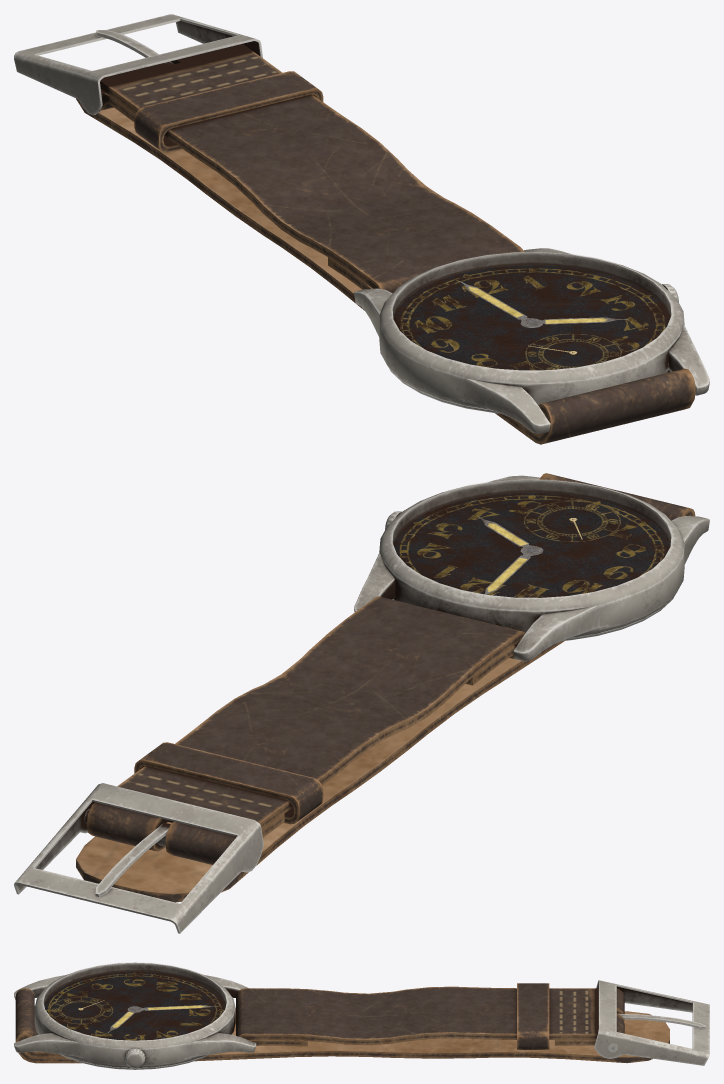
The picture shows the model from 3 angles, top to bottom: view 1: azimuth 30°, elevation 25°; view 2: azimuth 150°, elevation 25°; view 3: azimuth 270°, elevation 25°; orthographic projection. The views are drawn at different scales.
Parts seen in each view (by area): view 1: strap1_r_low, body_r_low, strap2_r_low, holder1_r_low; view 2: strap1_r_low, body_r_low, holder1_r_low, strap2_r_low; view 3: strap1_r_low, body_r_low, strap2_r_low, holder1_r_low, crown_r_low, minute_hand_r_low, hour_hand_r_low.
Part boxes in pixels (<box>): strap1_r_low: <box>100,43,523,293</box>; body_r_low: <box>354,248,709,433</box>; strap2_r_low: <box>76,98,695,444</box>; holder1_r_low: <box>14,14,262,115</box>; strap1_r_low: <box>87,596,525,864</box>; body_r_low: <box>354,475,709,661</box>; holder1_r_low: <box>14,783,263,933</box>; strap2_r_low: <box>76,473,695,902</box>; strap1_r_low: <box>236,983,624,1049</box>; body_r_low: <box>14,962,256,1069</box>; strap2_r_low: <box>15,988,669,1063</box>; holder1_r_low: <box>594,980,709,1065</box>; crown_r_low: <box>124,1048,145,1068</box>; minute_hand_r_low: <box>127,1005,215,1012</box>; hour_hand_r_low: <box>108,1006,141,1032</box>.
Bounding box in the file's own units: 0.1816 × 0.0393 × 0.6074.
Materials: 1 (1 with a texture image).
